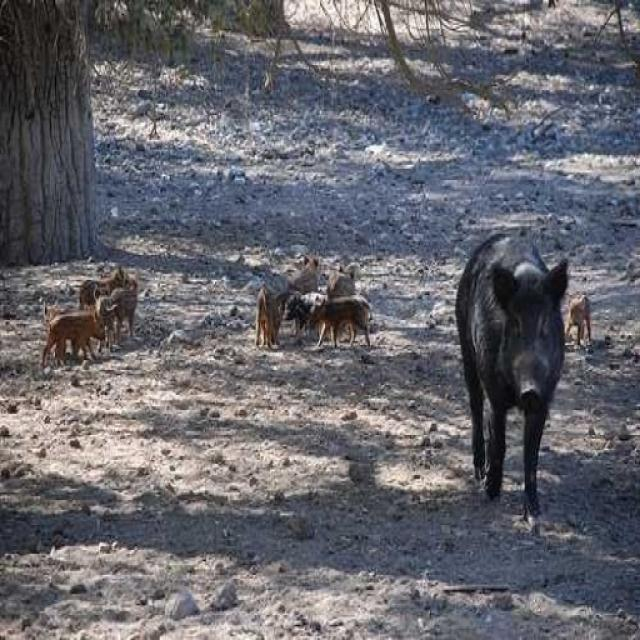pig: (398, 187, 574, 501)
